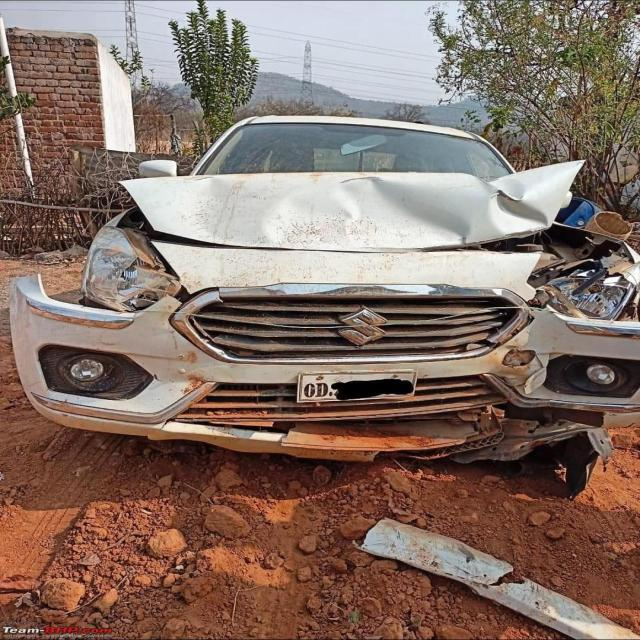accident: (11, 116, 639, 490)
